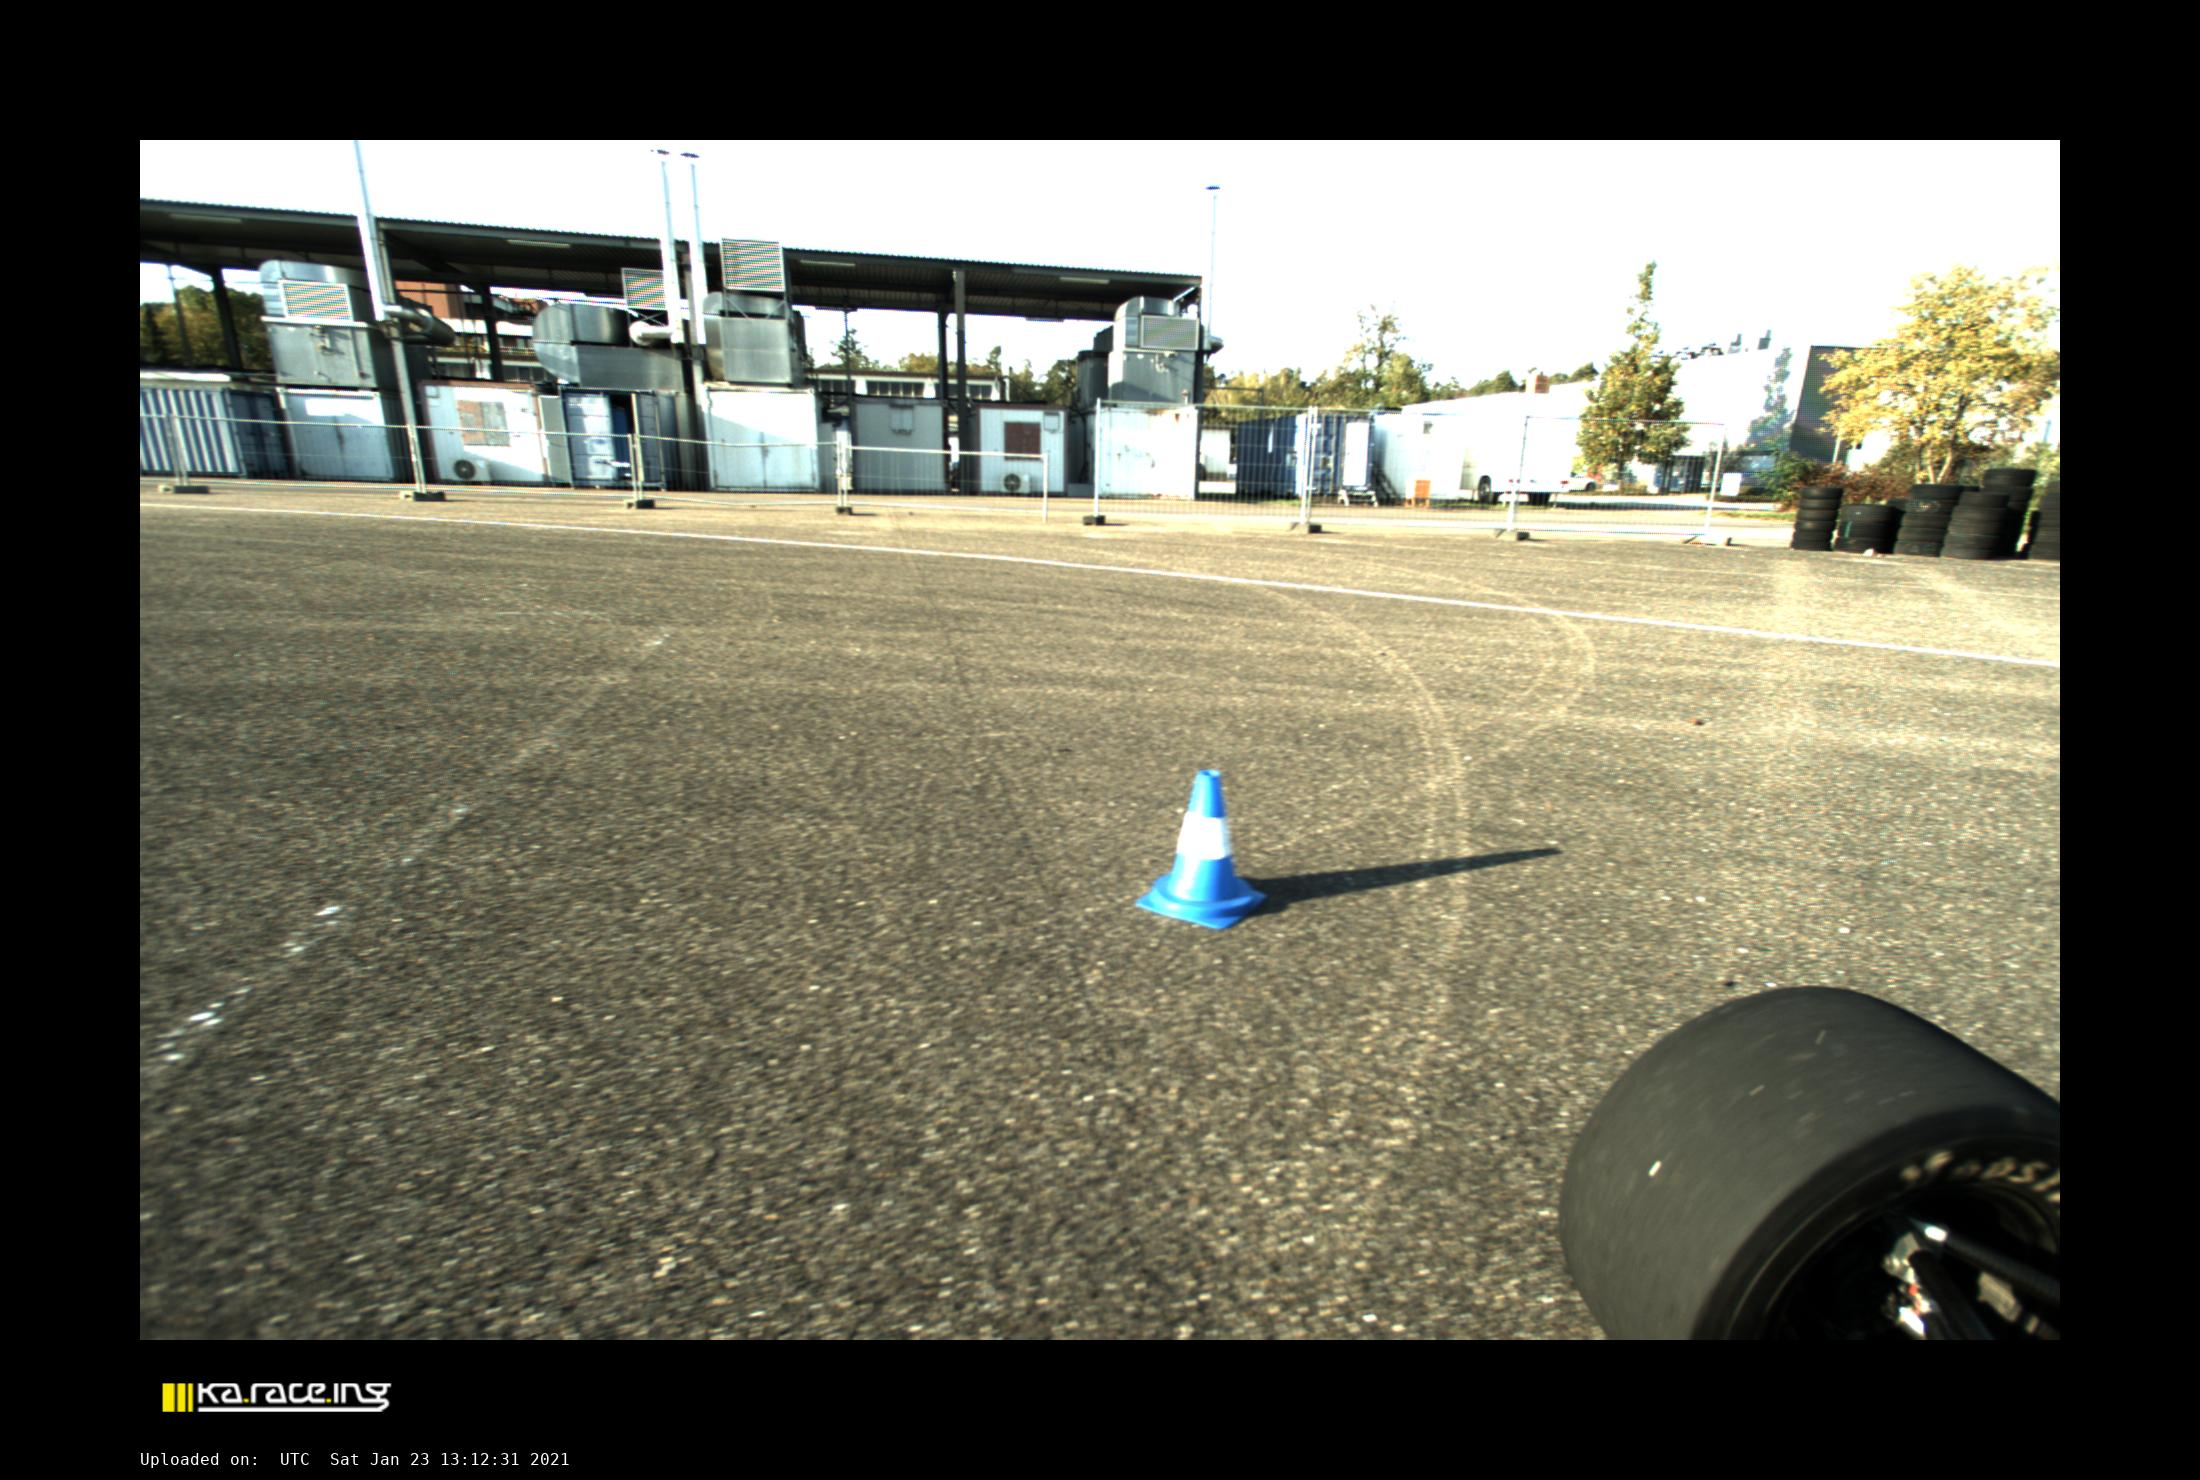blue_cone: (1131, 770, 1268, 930)
